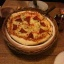pizza: (7, 12, 55, 44)
